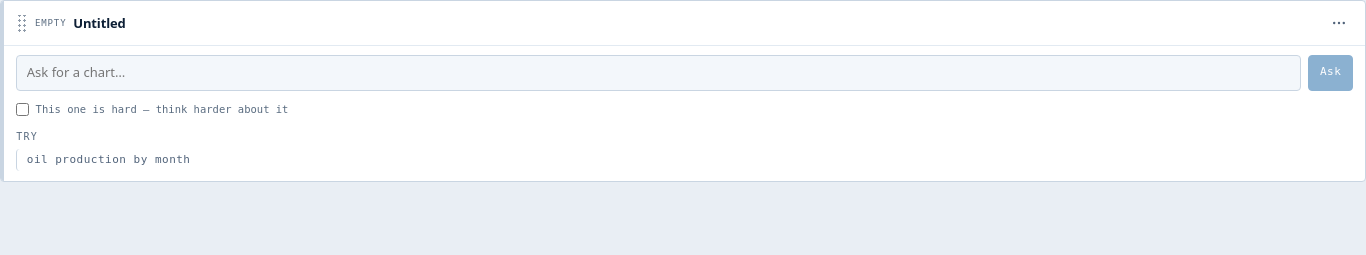
Card exchanges › hides the examples while a question is waiting on an answer
The width and height of the screenshot is (1366, 255).
Expected: the button "oil production by month" is shown, [16,149,1354,172]
Type "show me production" into the field labelled "Ask for a chart…" at (659, 73), box [16,55,1301,91]
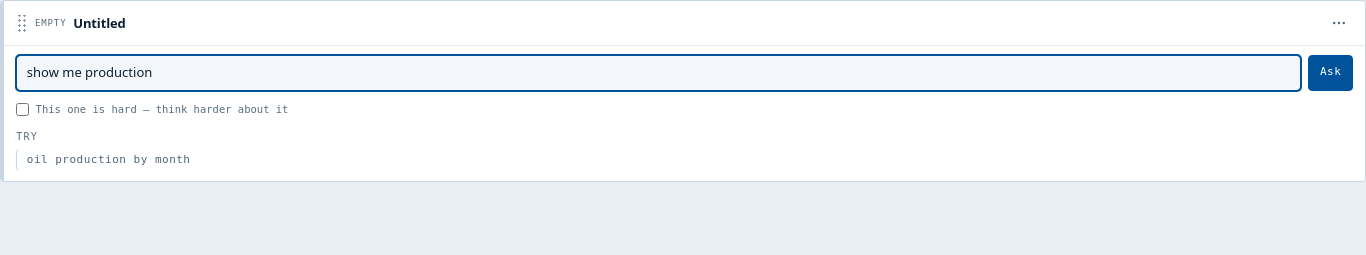
Click the button "Ask" at (1331, 73), box [1308,55,1354,91]
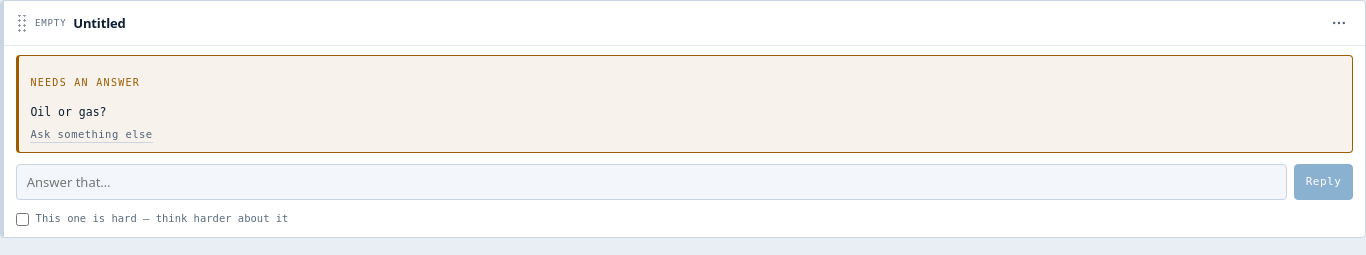
Now the button "oil production by month" is gone
